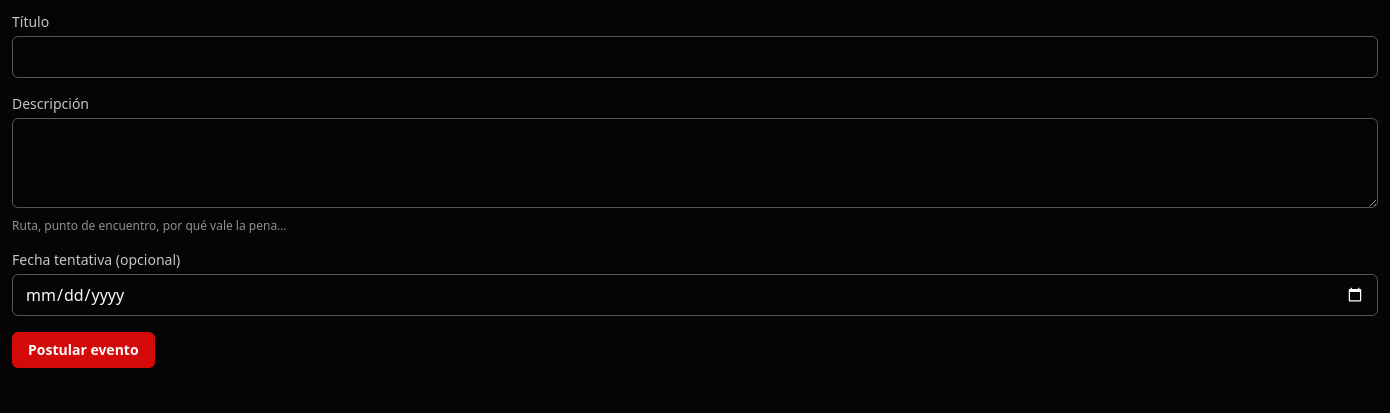
Test case: SuggestionForm › exige el título y no envía sin él
The image size is (1390, 413).
Click the button "Postular evento" at (83, 350), box [12,332,155,368]
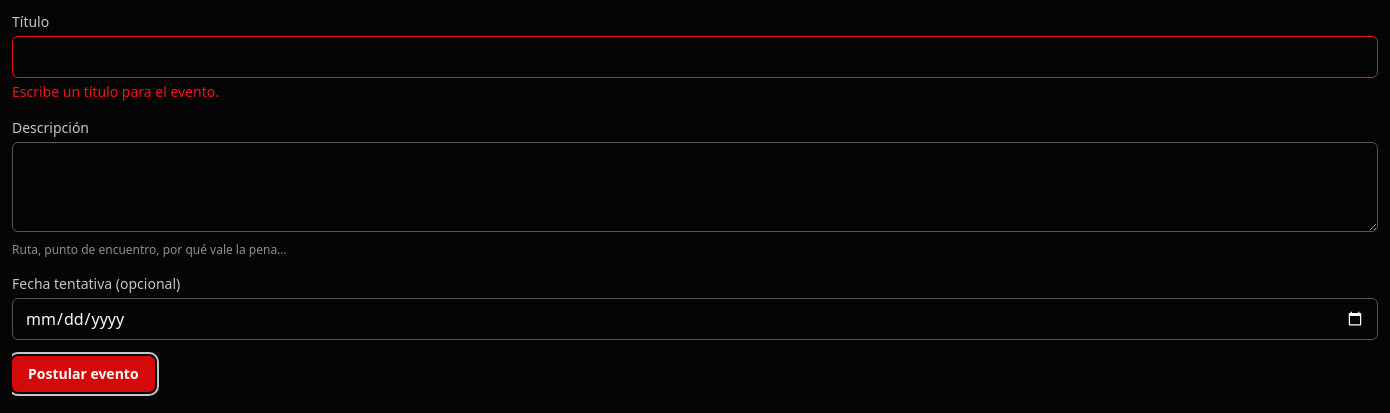
Result: the text "Escribe un título para el evento." is shown at [12,82,219,101]
